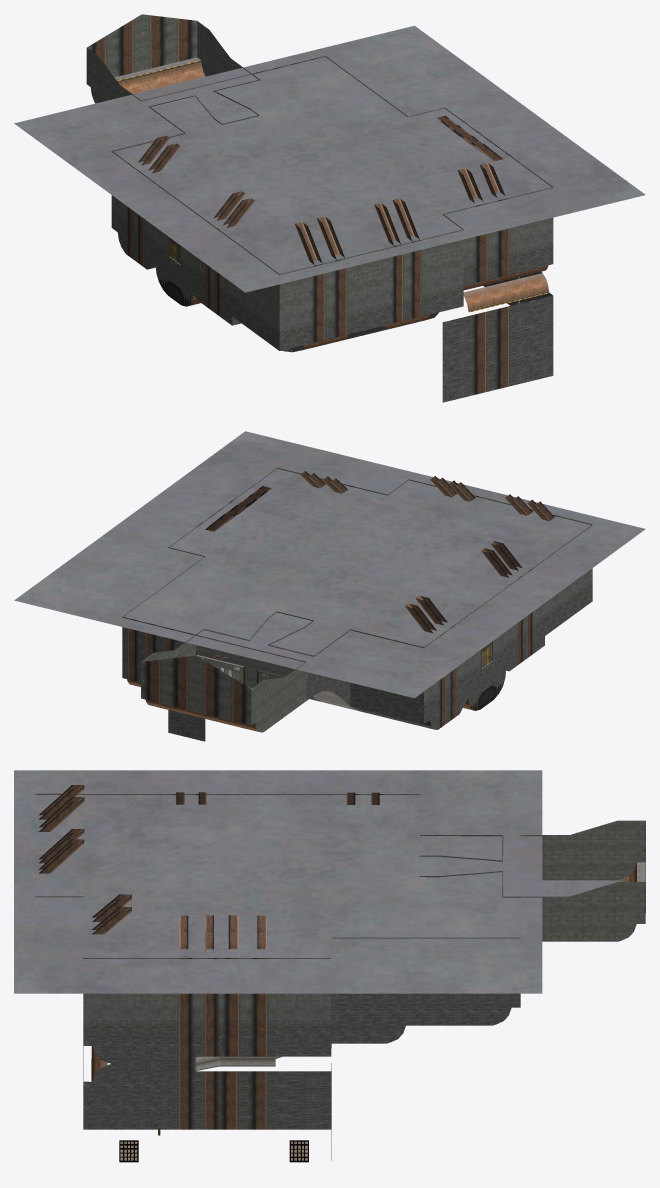
File: THPS1Warehouse.glb
3 views of the same model, one above another, from view 1: azimuth 30°, elevation 25°; view 2: azimuth 150°, elevation 25°; view 3: azimuth 270°, elevation 25° (orthographic). The views are drawn at different scales.
Parts seen in each view (by area): view 1: Plane, _x11f7c35d-material, _xda714f13-material, _x347f2e3f-material, _x183fb9e5-material, _x43781ea9-material, _x3e0feaec-material, _xaa1bbb9c-material, _xad767f85-material, _x4ace5282-material; view 2: Plane, _x11f7c35d-material, _xda714f13-material, _x347f2e3f-material, _x3e0feaec-material, _x183fb9e5-material, _x43781ea9-material, _xad767f85-material, _xaa1bbb9c-material, _x4ace5282-material, _x16e431d7-material, _xbe1d8a17-material; view 3: Plane, _x11f7c35d-material, _x347f2e3f-material, _x183fb9e5-material, _x3e0feaec-material, _x43781ea9-material, _xad767f85-material, _xda714f13-material, _x1f2c4b6f-material, _xf15c1cd0-material, _x6f388973-material.
Part boxes in pixels (box(x1,y1,x2,y2)): Plane: box(14, 25, 645, 292); _x11f7c35d-material: box(111, 74, 553, 402); _xda714f13-material: box(87, 14, 515, 305); _x347f2e3f-material: box(86, 15, 553, 312); _x183fb9e5-material: box(126, 56, 515, 395); _x43781ea9-material: box(111, 56, 553, 335); _x3e0feaec-material: box(138, 115, 505, 264); _xaa1bbb9c-material: box(117, 60, 549, 350); _xad767f85-material: box(126, 205, 515, 327); _x4ace5282-material: box(155, 266, 193, 306); Plane: box(14, 431, 645, 698); _x11f7c35d-material: box(168, 586, 592, 741); _xda714f13-material: box(141, 478, 562, 725); _x347f2e3f-material: box(141, 468, 592, 732); _x3e0feaec-material: box(205, 471, 554, 632); _x183fb9e5-material: box(122, 617, 532, 729); _x43781ea9-material: box(122, 547, 592, 708); _xad767f85-material: box(438, 612, 532, 697); _xaa1bbb9c-material: box(127, 679, 474, 731); _x4ace5282-material: box(468, 670, 505, 710); _x16e431d7-material: box(212, 664, 358, 710); _xbe1d8a17-material: box(198, 656, 283, 683); Plane: box(14, 770, 542, 993); _x11f7c35d-material: box(83, 835, 520, 1160); _x347f2e3f-material: box(35, 793, 645, 1001); _x183fb9e5-material: box(171, 1028, 275, 1129); _x3e0feaec-material: box(38, 785, 379, 952); _x43781ea9-material: box(83, 937, 520, 1027); _xad767f85-material: box(171, 1002, 275, 1027); _xda714f13-material: box(35, 794, 645, 1001); _x1f2c4b6f-material: box(195, 1056, 275, 1070); _xf15c1cd0-material: box(542, 880, 617, 896); _x6f388973-material: box(119, 1140, 308, 1162).
Bounding box in the file's own units: 148 × 78.19 × 177.
65 materials, 65 textured.
